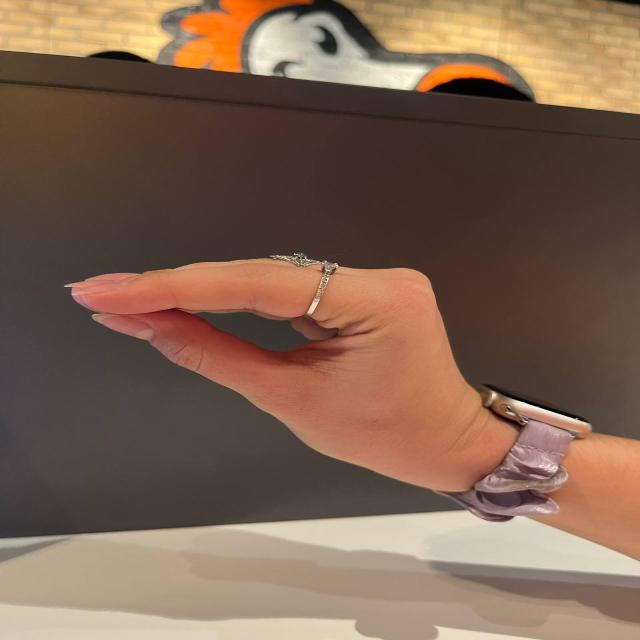zh: (53, 245, 489, 480)
